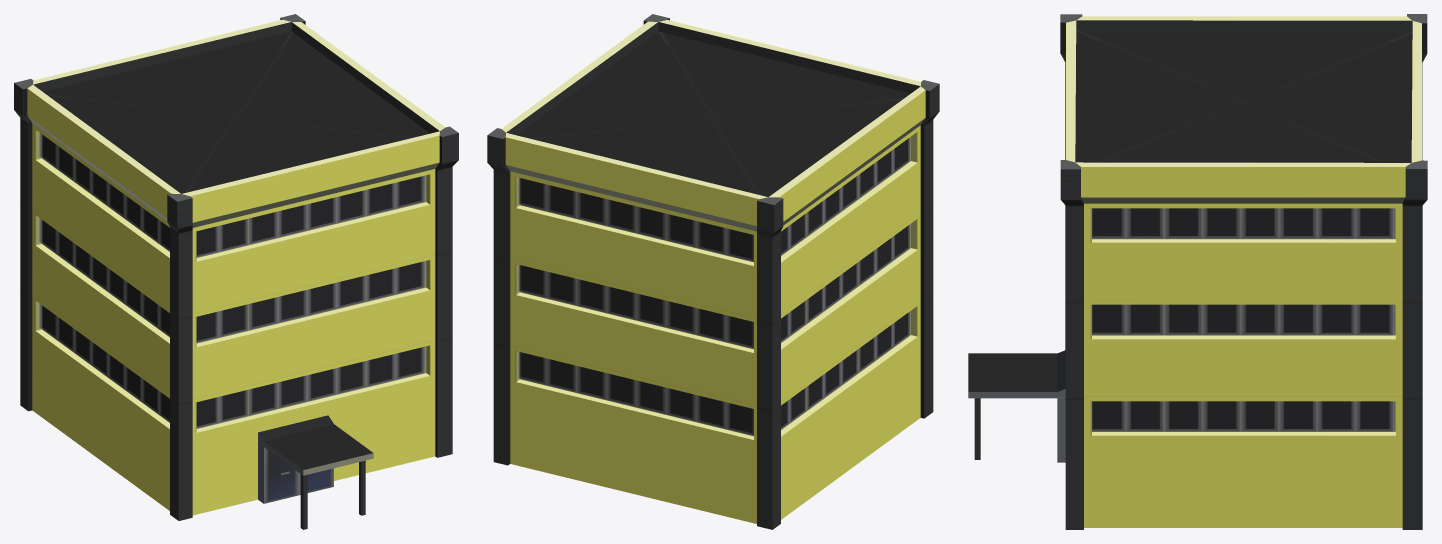
The model's file is Stack Small.fbx.
3 renders of one model, left to right at view 1: azimuth 30°, elevation 25°; view 2: azimuth 150°, elevation 25°; view 3: azimuth 270°, elevation 25°, orthographic. The views are drawn at different scales.
Parts seen in each view (by area): view 1: Stack Small; view 2: Stack Small; view 3: Stack Small.
Part boxes in pixels (x1=…): Stack Small: x1=14, y1=14, x2=458, y2=529; Stack Small: x1=487, y1=14, x2=939, y2=529; Stack Small: x1=968, y1=14, x2=1427, y2=529.
Size of the model in its own units: 5.29 by 5.77 by 6.62.
